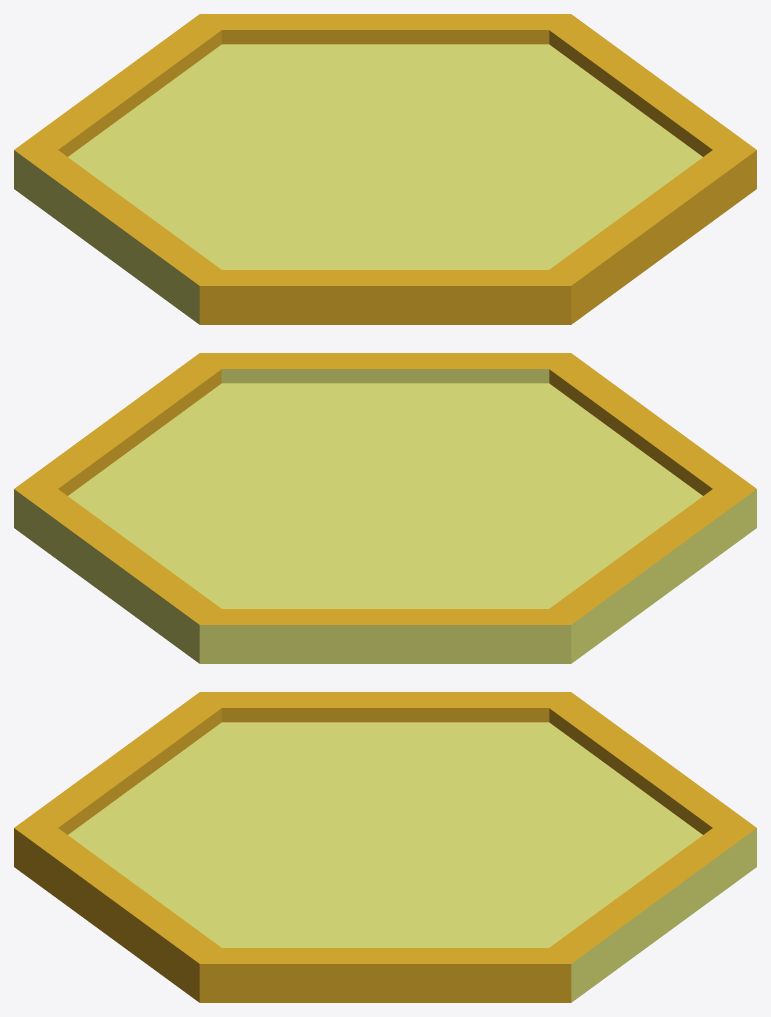
The model's file is Path_3.fbx.
The picture shows the model from 3 angles, top to bottom: view 1: azimuth 30°, elevation 25°; view 2: azimuth 150°, elevation 25°; view 3: azimuth 270°, elevation 25°; orthographic projection.
Parts seen in each view (by area): view 1: Cylinder; view 2: Cylinder; view 3: Cylinder.
Boxes of the visible parts, x1=… form: Cylinder: x1=14, y1=14, x2=756, y2=324; Cylinder: x1=14, y1=353, x2=756, y2=663; Cylinder: x1=14, y1=692, x2=756, y2=1002.
Bounding box in the file's own units: 173 × 11.6 × 200.
